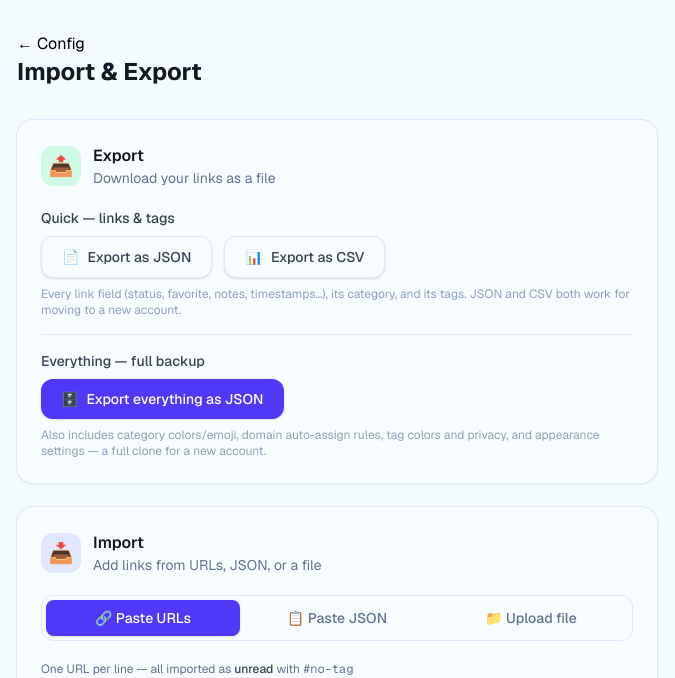
ImportExportClient › CSV template and format guide › shows the template button and a collapsed CSV format guide on the file tab
Click the button "📁 Upload file" at (531, 618), box x1=434 y1=600 x2=628 y2=636
(page scrolled)
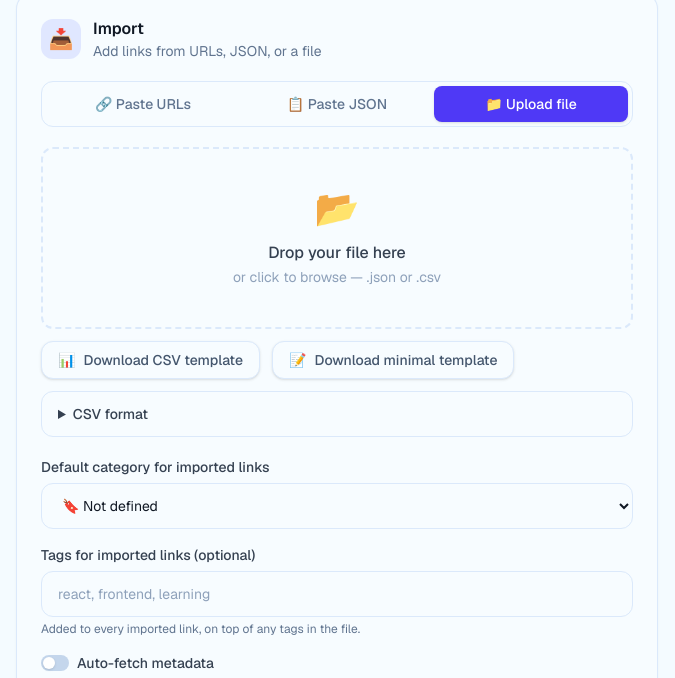
Expected: the button "📊 Download CSV template" is shown, x1=41 y1=341 x2=260 y2=379
